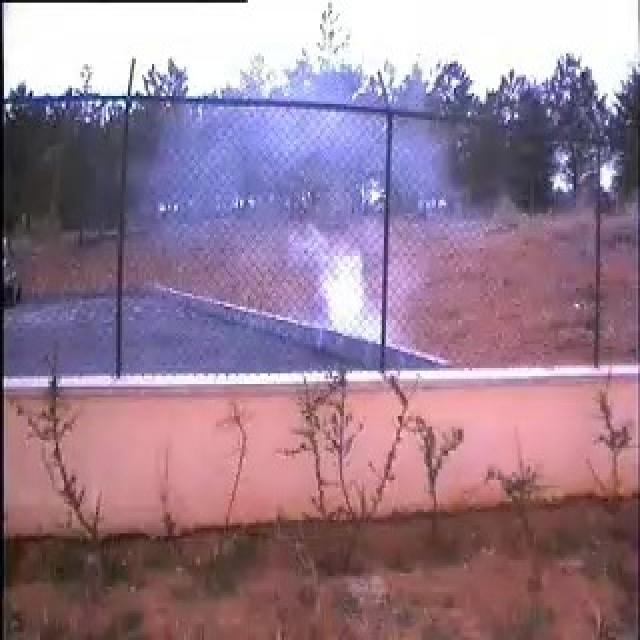smoke: (209, 102, 417, 342)
